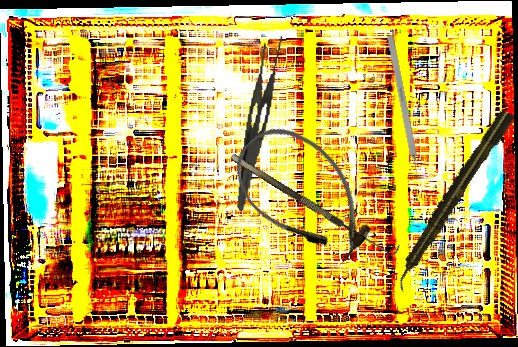Cannula: (218, 108, 390, 281)
Dressing Forceps: (235, 32, 286, 214)
Handpiece: (387, 105, 518, 293)
Hook Surgical: (230, 144, 401, 261), (386, 35, 423, 184)
